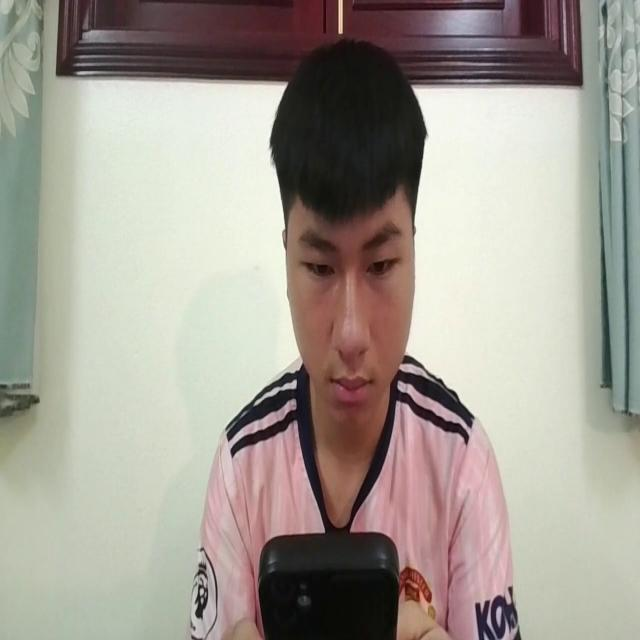phone: (258, 526, 398, 640)
student: (186, 28, 520, 640)
